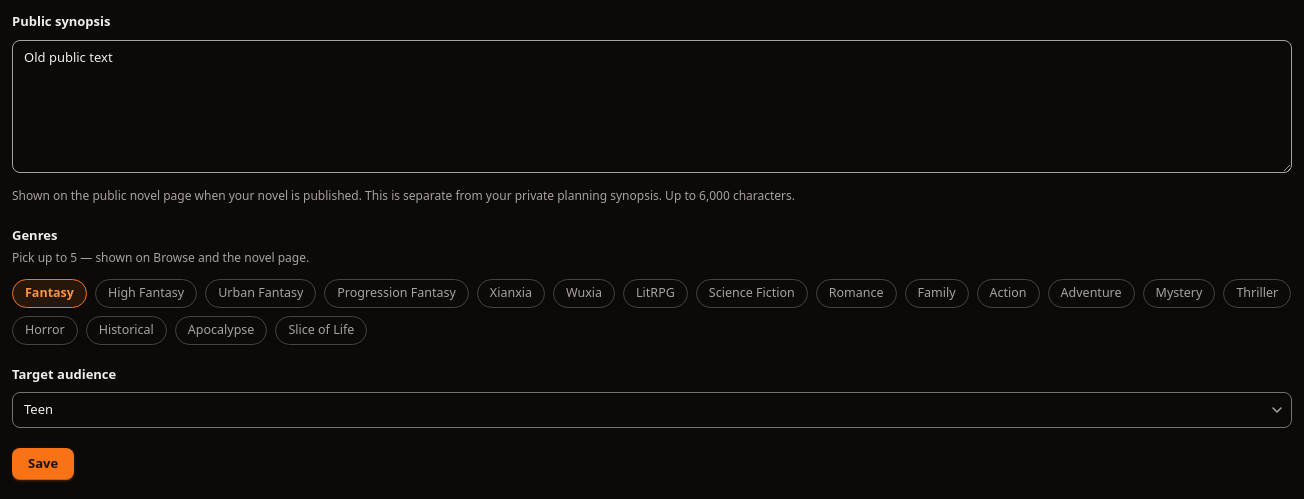
Test: novel discovery editor › loads and explicitly saves the public synopsis with its comparison value
Replace the text in the text box with test id "discovery-synopsis" with "A new introduction.": point(652, 106) [12,40,1292,172]
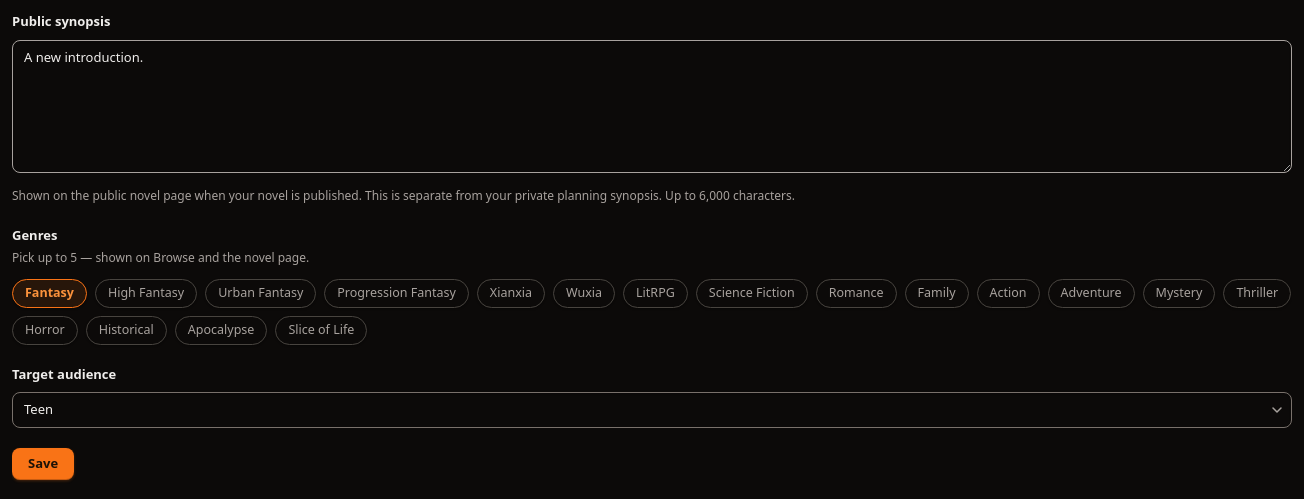
Click the button with test id "discovery-save": point(43, 464) [12,448,74,480]
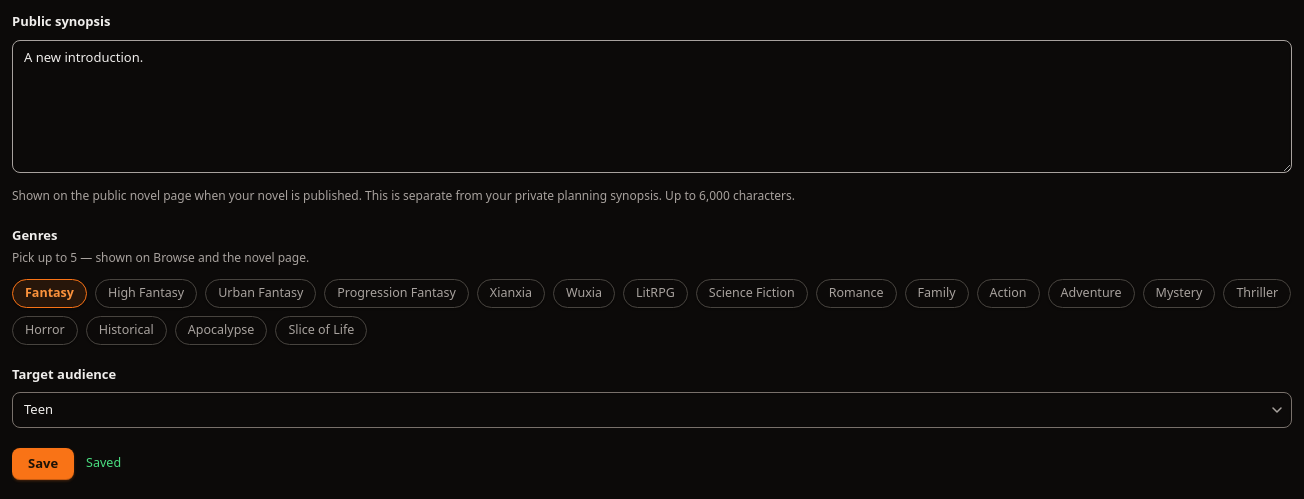
expect the message "Saved" is shown: met, box [86,454,121,473]
